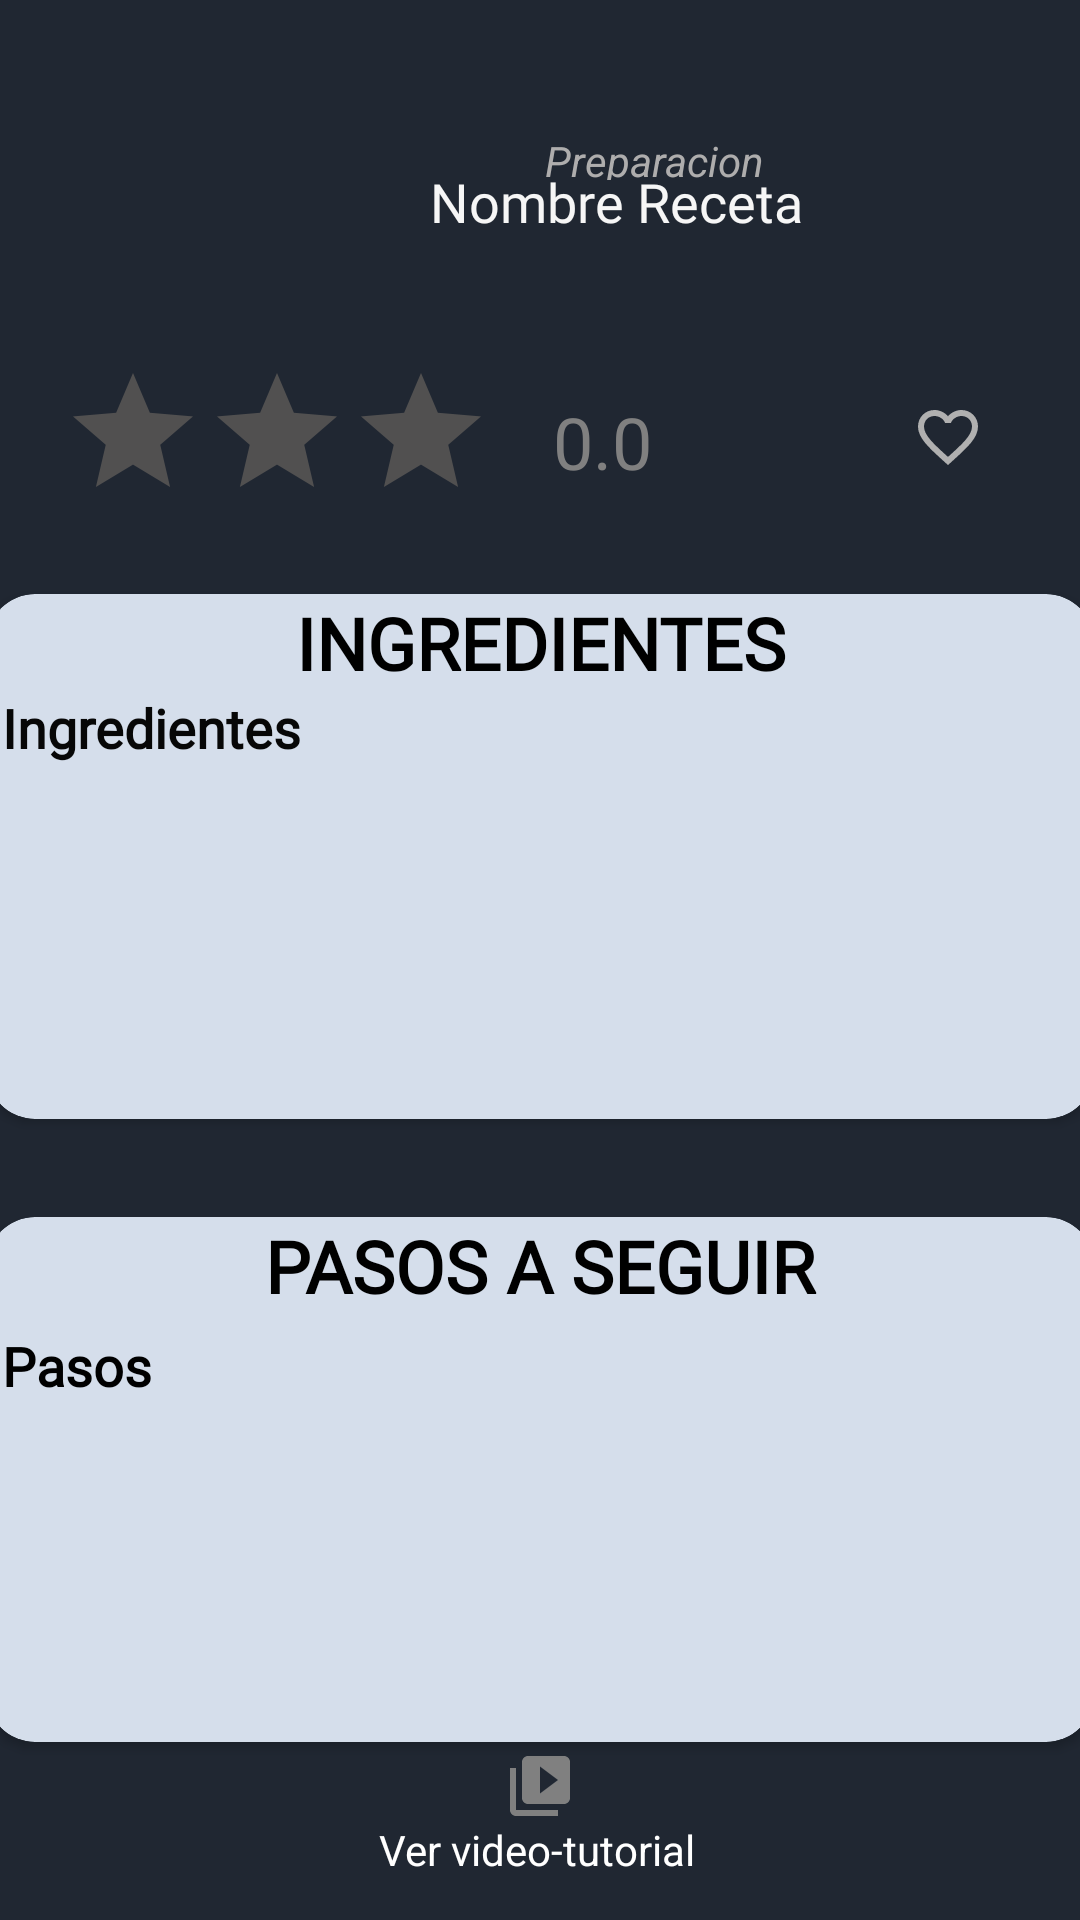

Named icons in this screenshot (1080x1920) and their centers, [x,y]:
favorite border: [948,437]
video library: [540,1786]
